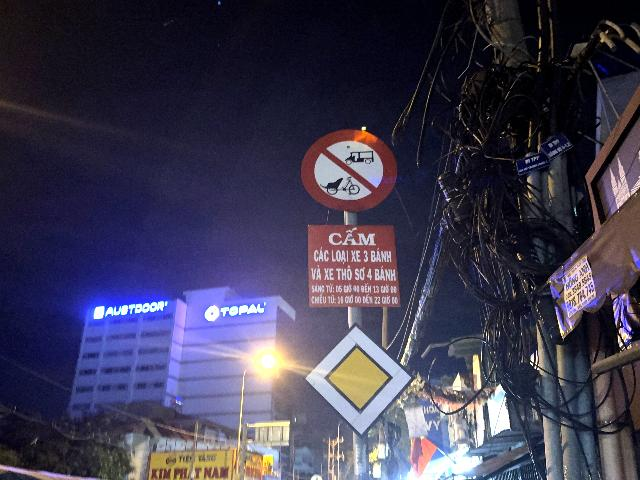bat-dau-duong-uu-tien: (302, 321, 416, 438)
cam-xe-3-banh-xe-tho-so-4-banh: (300, 128, 398, 213)
